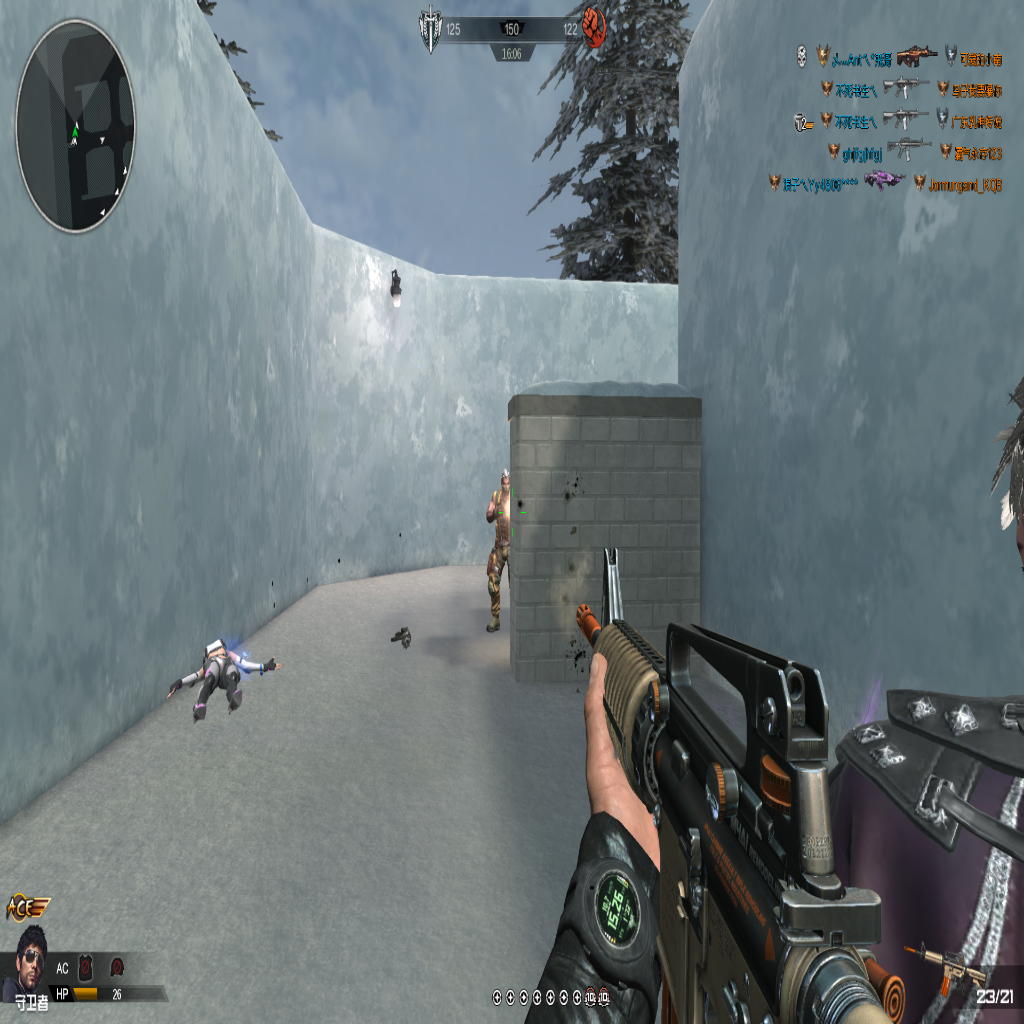tt: (483, 466, 512, 634)
